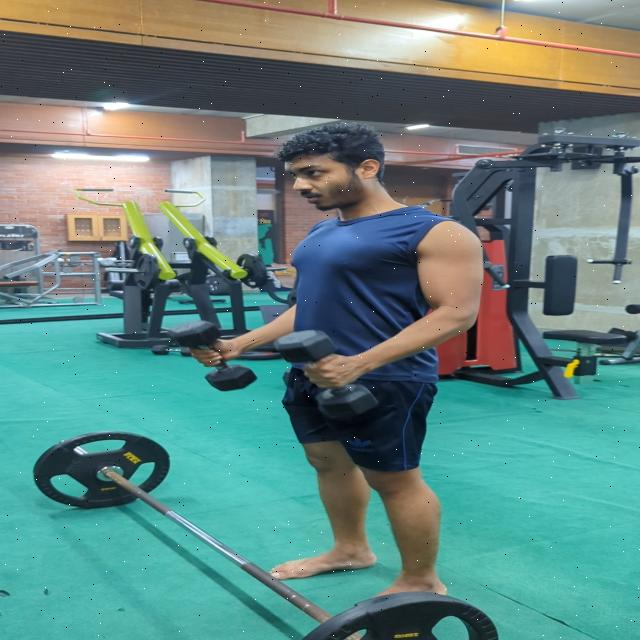Normal_DumbbellBicepCurls: (184, 121, 489, 606)
